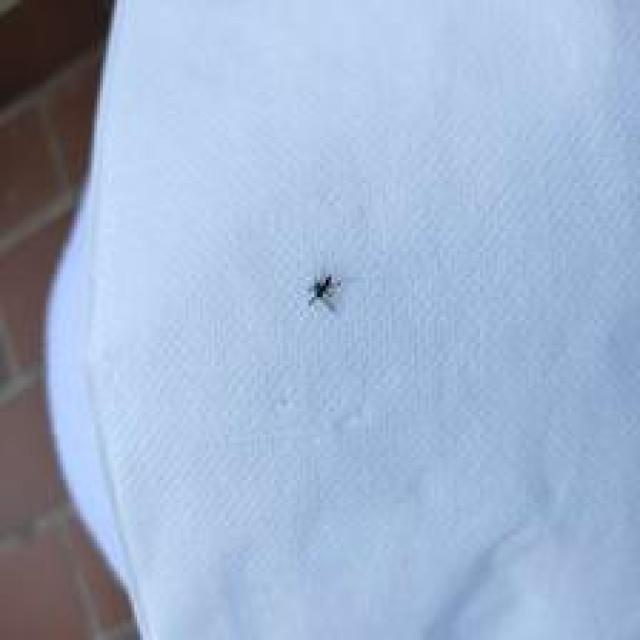Aedes albopictus: (306, 272, 340, 312)
